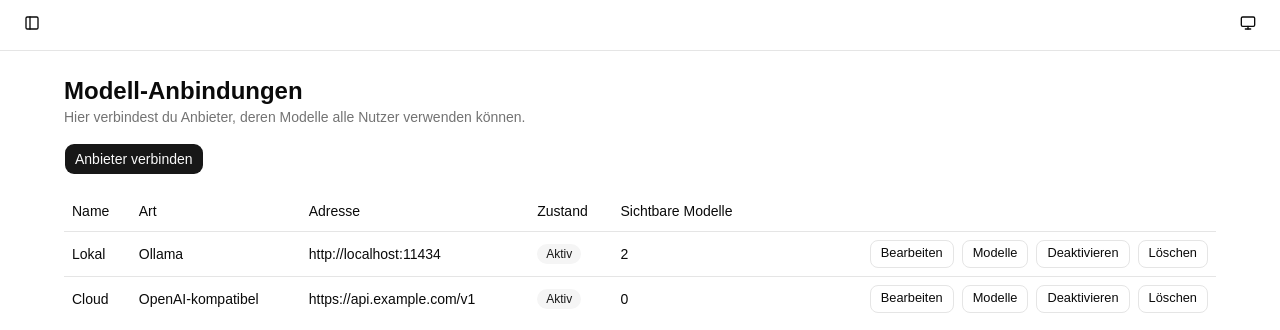
Test: AdminConnectionsPage: enable and disable › sends one request on a double click and locks all row actions meanwhile
Expected: the heading "Modell-Anbindungen" is shown, [64,77,303,104]
Double-click the button with aria-label "Lokal deaktivieren" at (1083, 254), box [1036,240,1130,268]
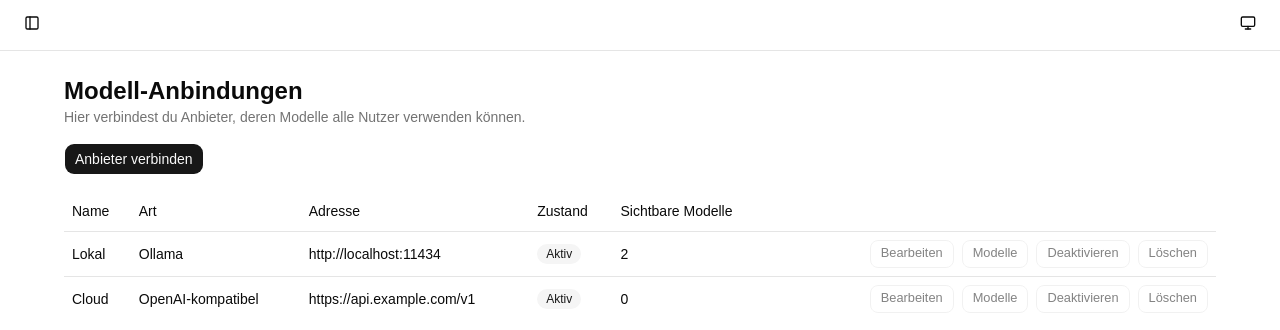
Expected: the button with aria-label "Cloud deaktivieren" is disabled, [1036,284,1130,312]
Expected: the button with aria-label "Lokal löschen" is disabled, [1138,240,1208,268]
